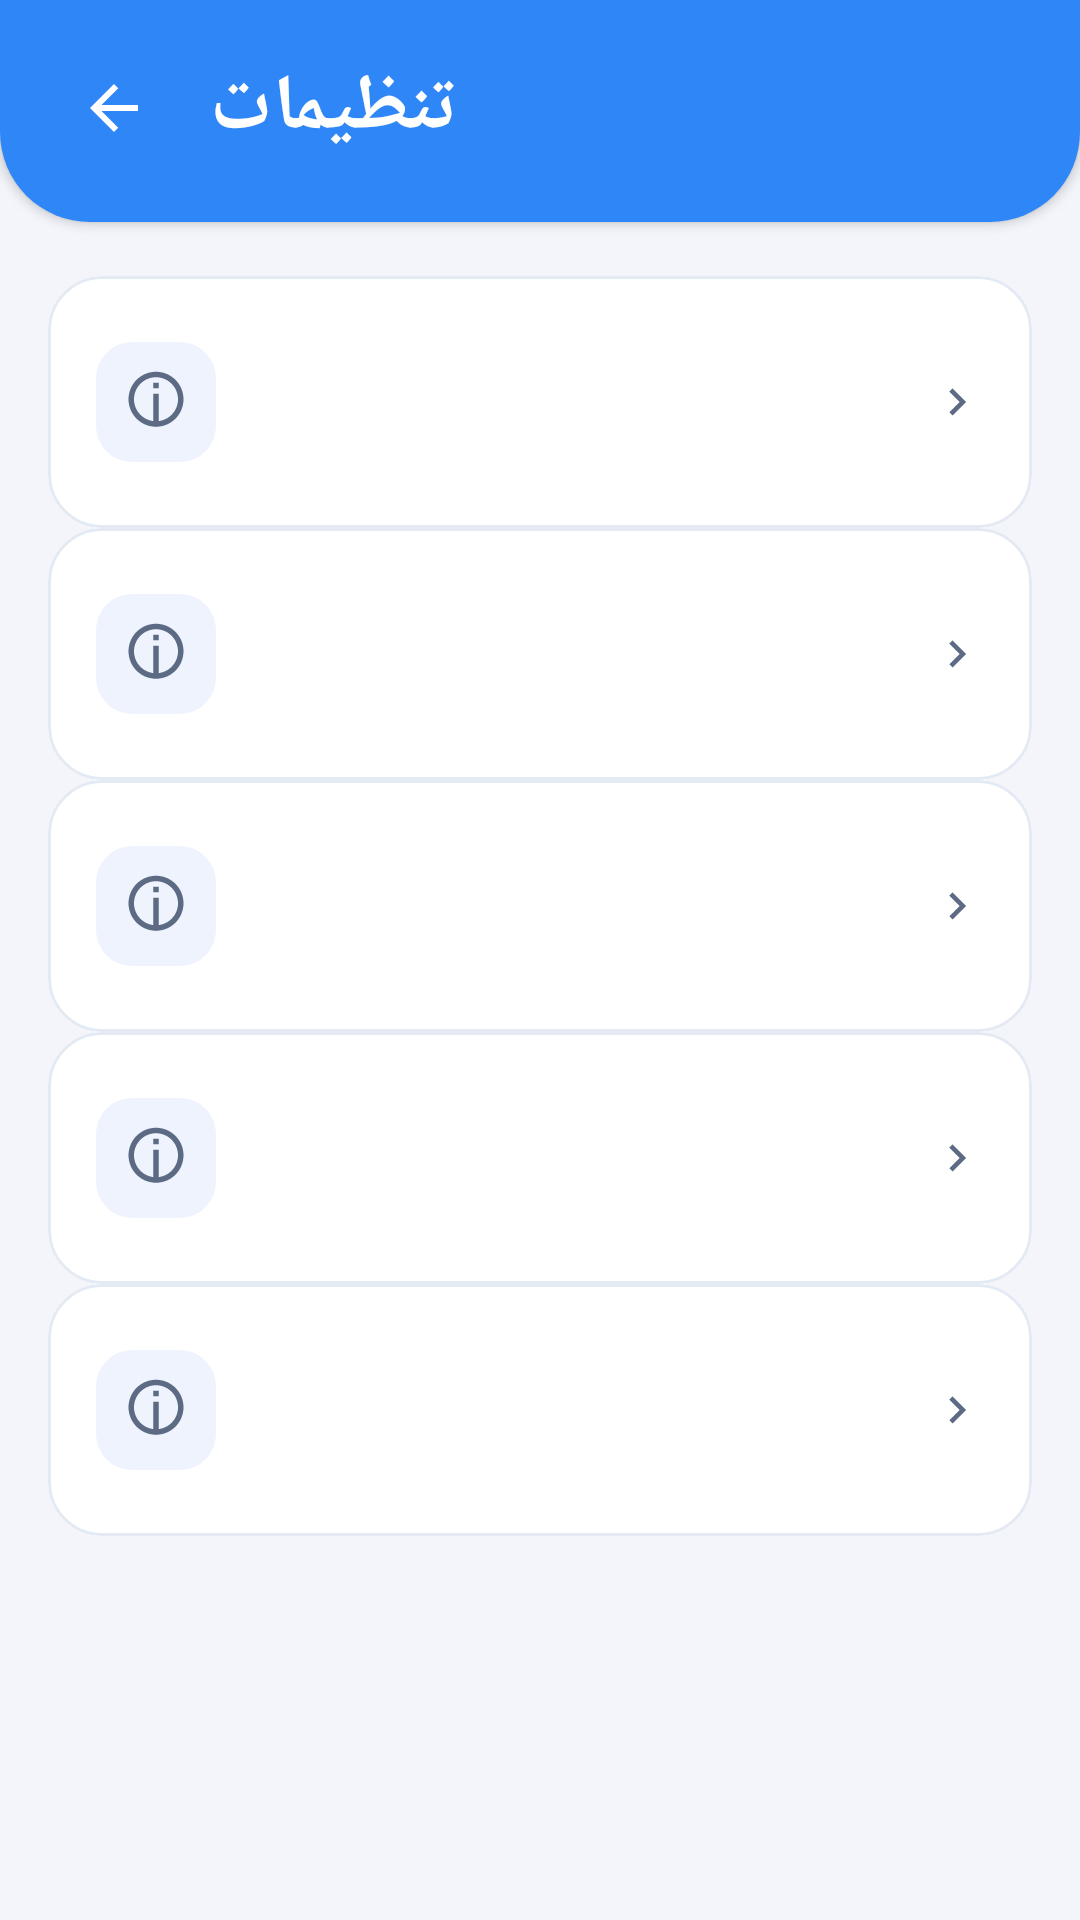

Named icons in this screenshot (1080x1920) and their centers, point (x, y):
about: point (156, 399), point (156, 651), point (156, 903), point (156, 1155), point (156, 1407)
بازگشت: point (114, 108)
رفتن به جزئیات: point (957, 402), point (957, 654), point (957, 906), point (957, 1158), point (957, 1410)
